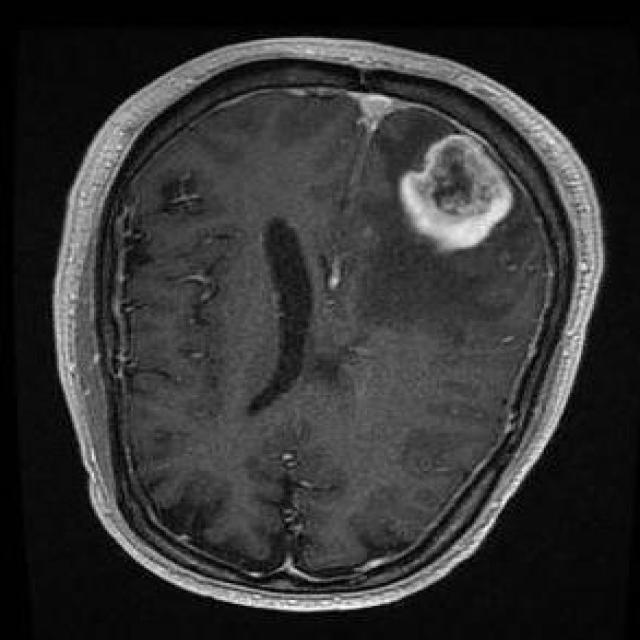Tumor-Cell: (402, 126, 532, 263)
